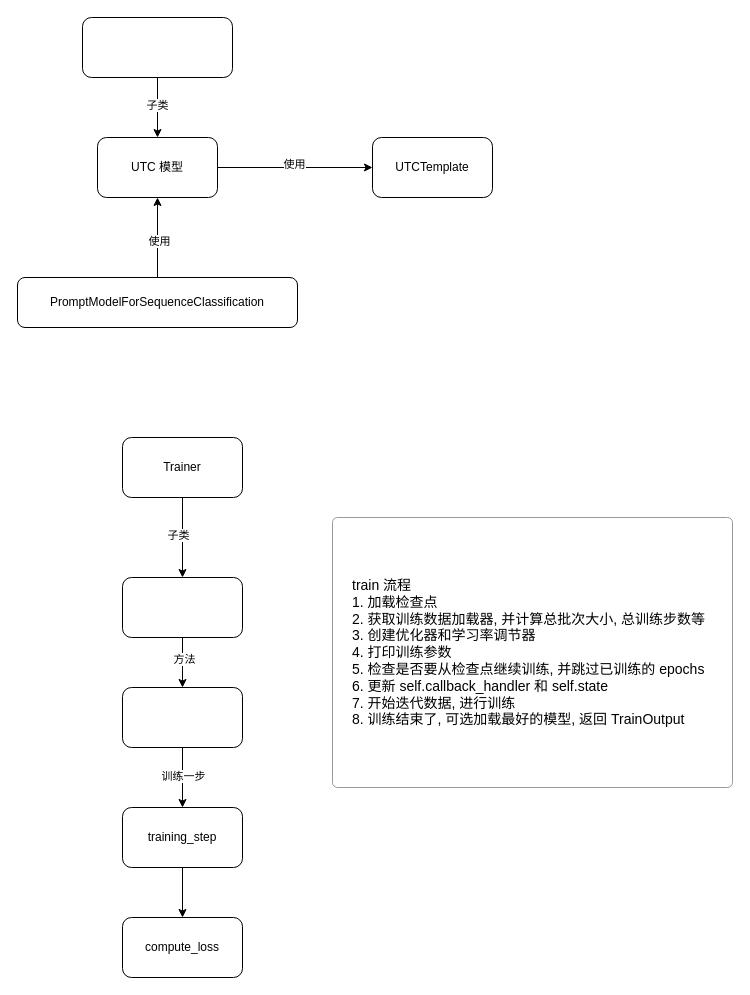
Some shapes in this 750 by 995 pixel diagram are drawn without their labels. The shapes that lost their labels are listed below. From the top down, each one's box as (x1, y1, x2, y2) in pixels, then its label:
(82, 16, 232, 78): ErniePretrainedModel
(122, 576, 242, 638): PromptTrainer
(122, 686, 242, 748): train
